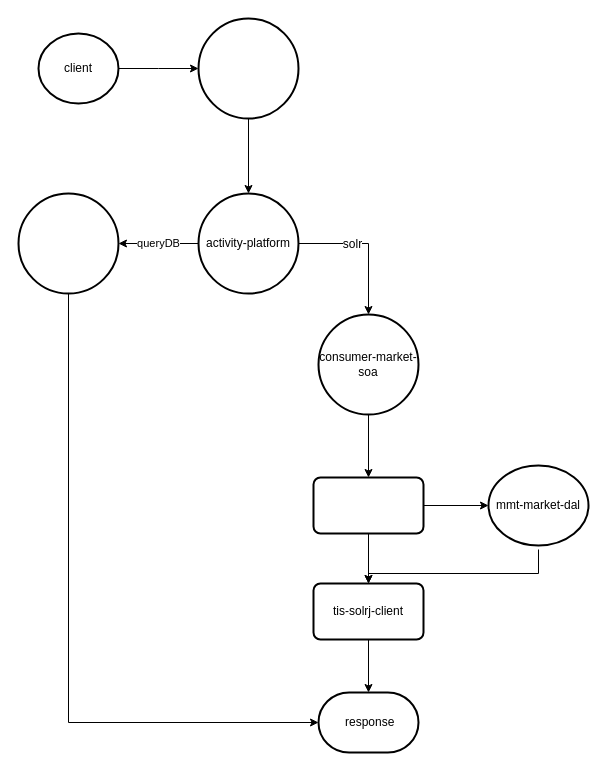
This 606x770 diagram has some shape labels left out. The box of each missing label's shape, as (x1, y1, x2, y2) in pixels:
integral-api: (197, 17, 299, 119)
shop-member: (17, 192, 119, 294)
solrQueryV2: (312, 476, 424, 534)
